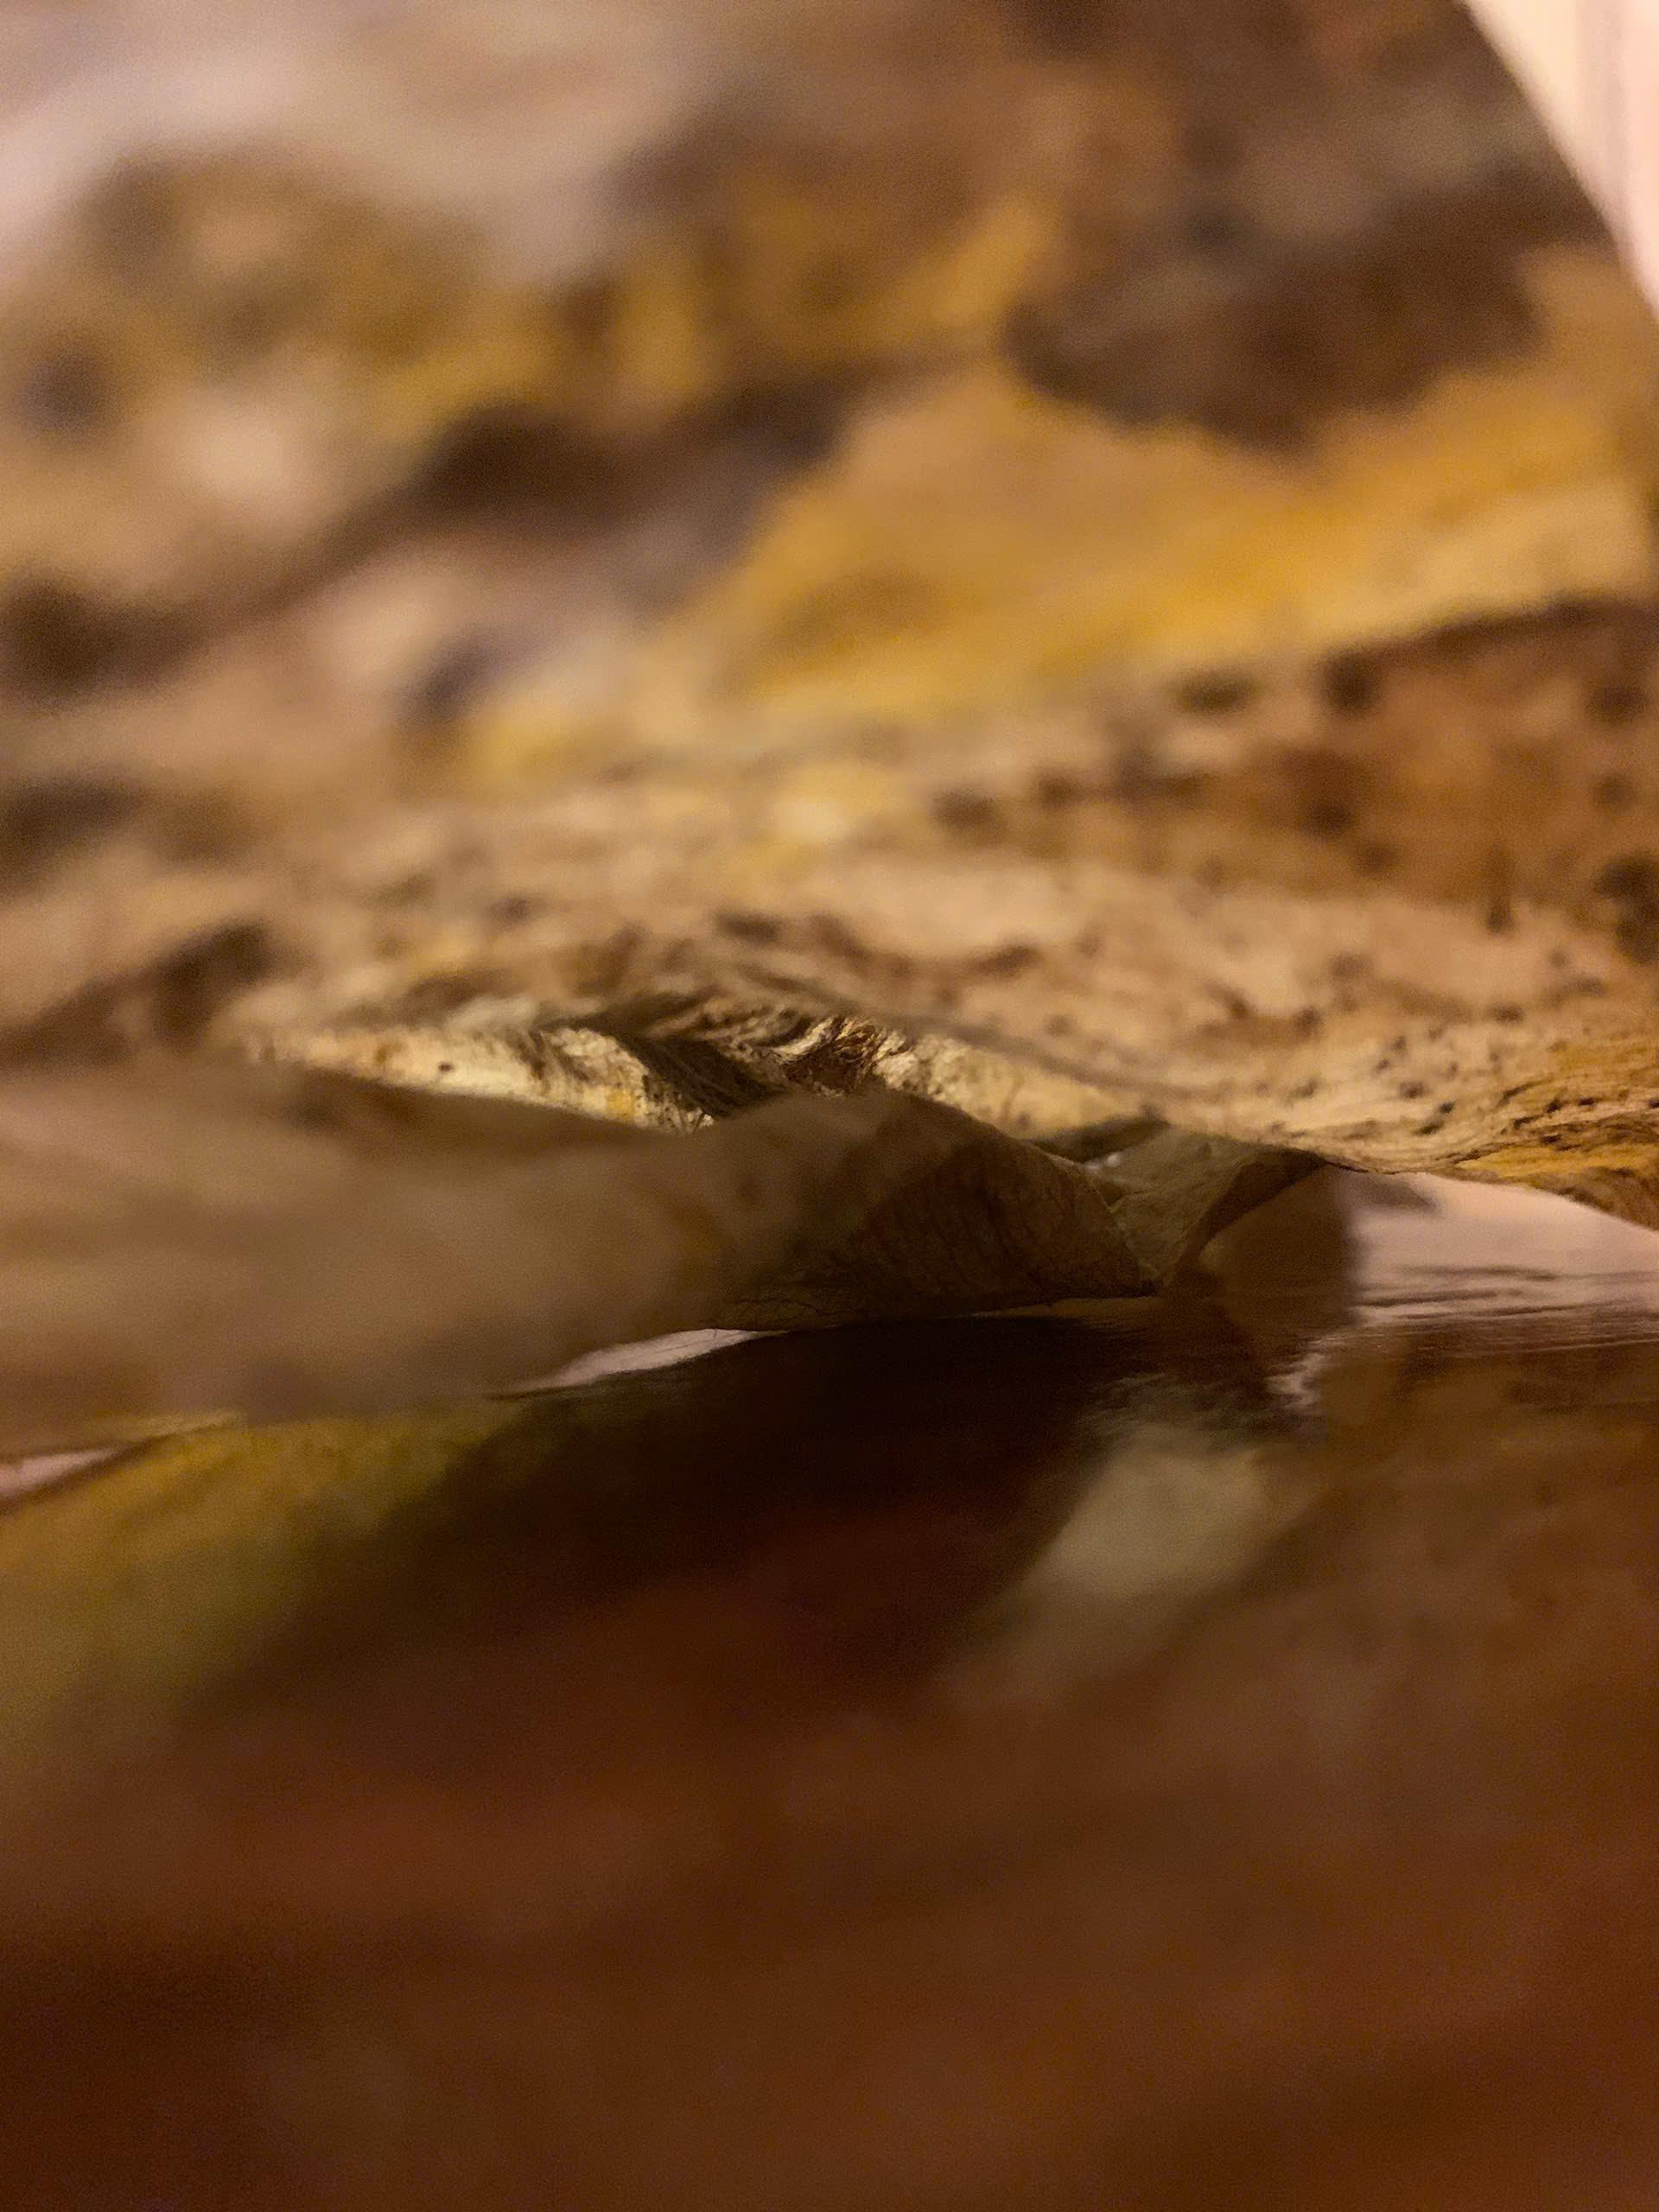Huu co: (3, 624, 1659, 1315)
